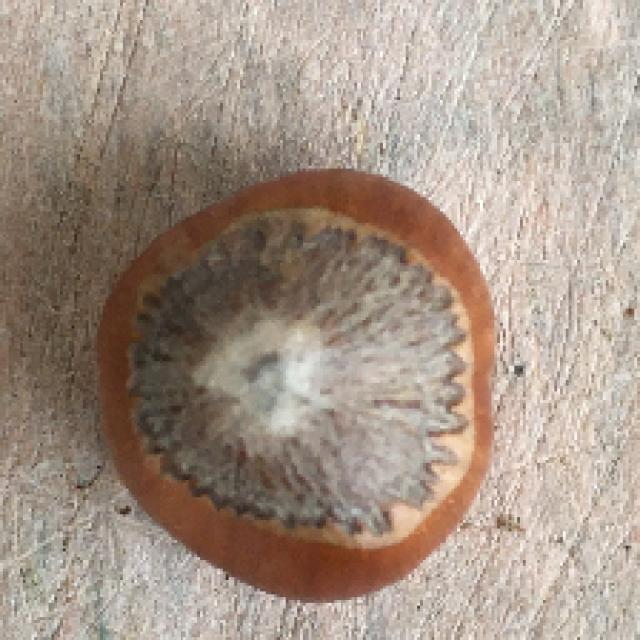damagedHazelnut: (77, 172, 499, 602)
